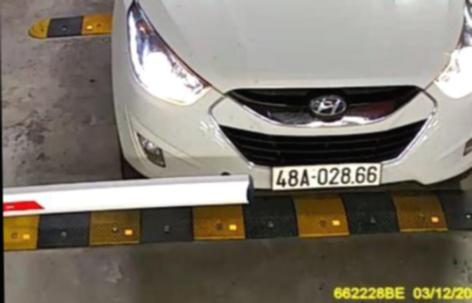License_Plate: (269, 158, 388, 195)
